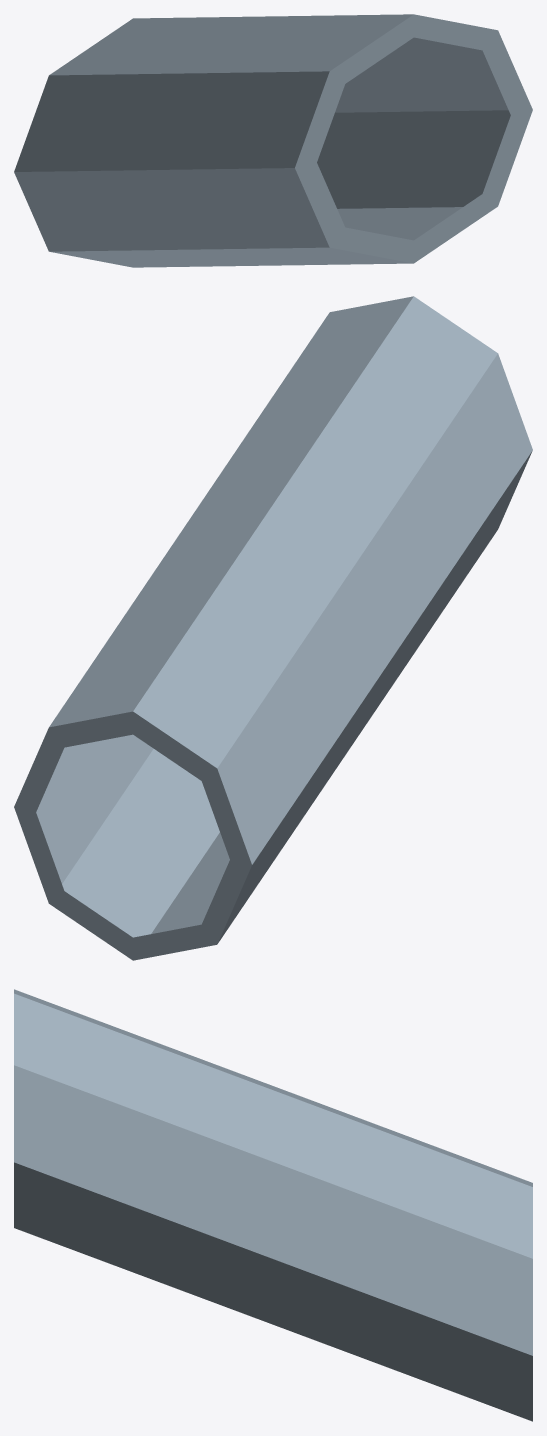
File: piperamp.glb
3 views of the same model, one above another, from view 1: azimuth 30°, elevation 25°; view 2: azimuth 150°, elevation 25°; view 3: azimuth 270°, elevation 25° (orthographic). The views are drawn at different scales.
Visible parts, largest first — view 1: pipeRamp; view 2: pipeRamp; view 3: pipeRamp.
Boxes of the visible parts, left/top/right/bottom form: pipeRamp: left=14, top=14, right=532, bottom=267; pipeRamp: left=14, top=296, right=532, bottom=960; pipeRamp: left=14, top=989, right=532, bottom=1421.
Size of the model in its own units: 4.9 by 9.01 by 10.
